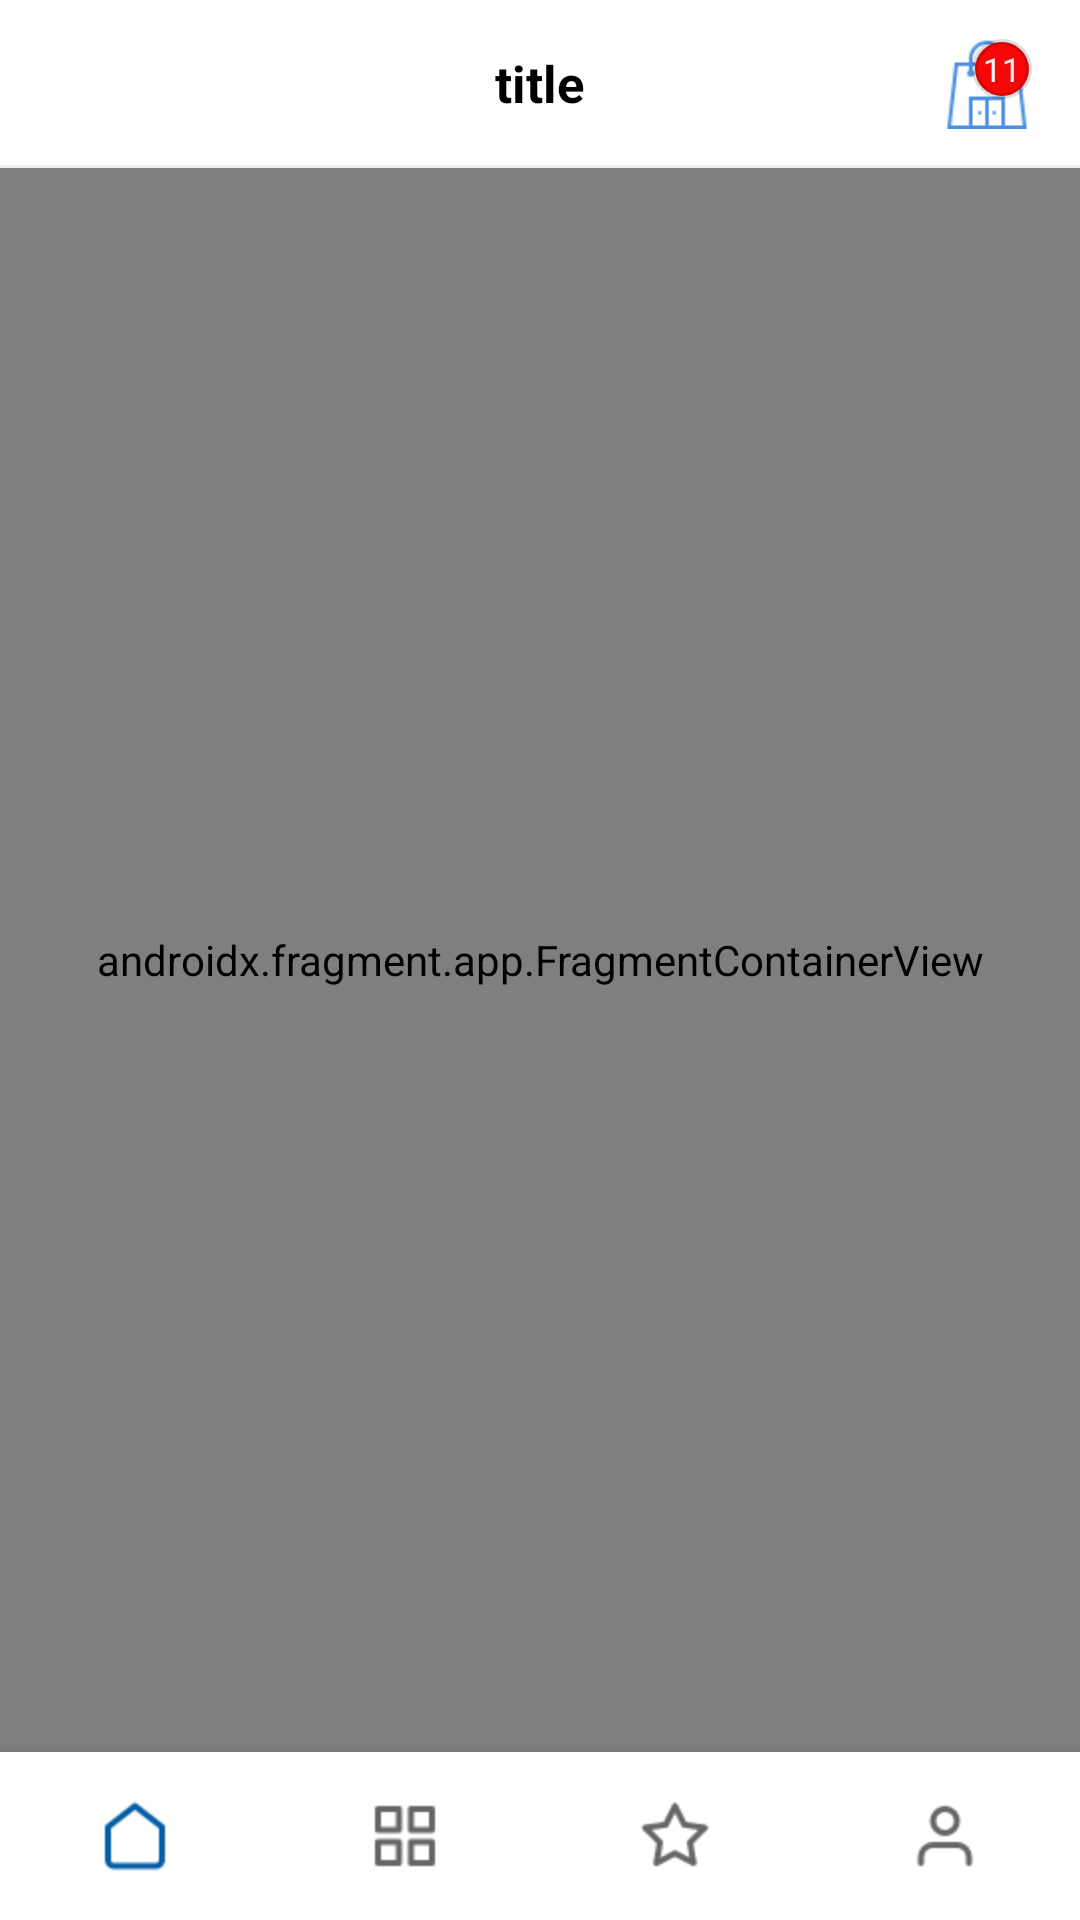

Locate icon controls on the screen. Image size 1080 x 1920, boxes as (x1, y1, x2, y2).
shopping bag: (947, 39, 1032, 129)
